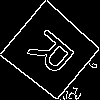R: (26, 26, 85, 84)
